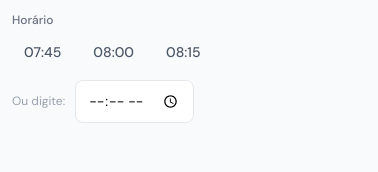
Test case: TimeField › dá para digitar um horário fora da lista
Type "19:30" into the time field named "Horário manual" at (134, 101), box x1=75 y1=80 x2=194 y2=123
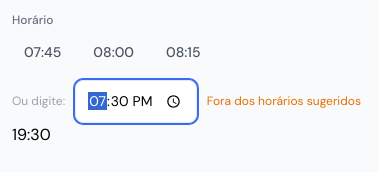
Now the text with test id "escolhido" reads "19:30", box x1=12 y1=124 x2=51 y2=145
Now the text "Fora dos horários sugeridos" is shown, box x1=207 y1=93 x2=361 y2=109
